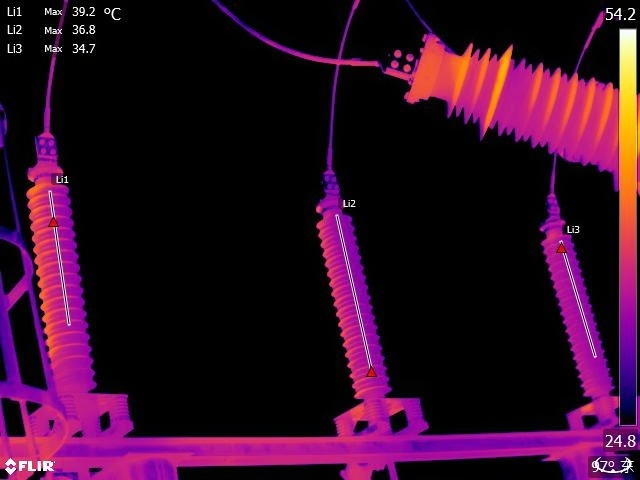lightning arrester: (24, 146, 103, 397), (315, 190, 394, 406), (540, 208, 614, 405)
tube: (393, 19, 640, 188)
